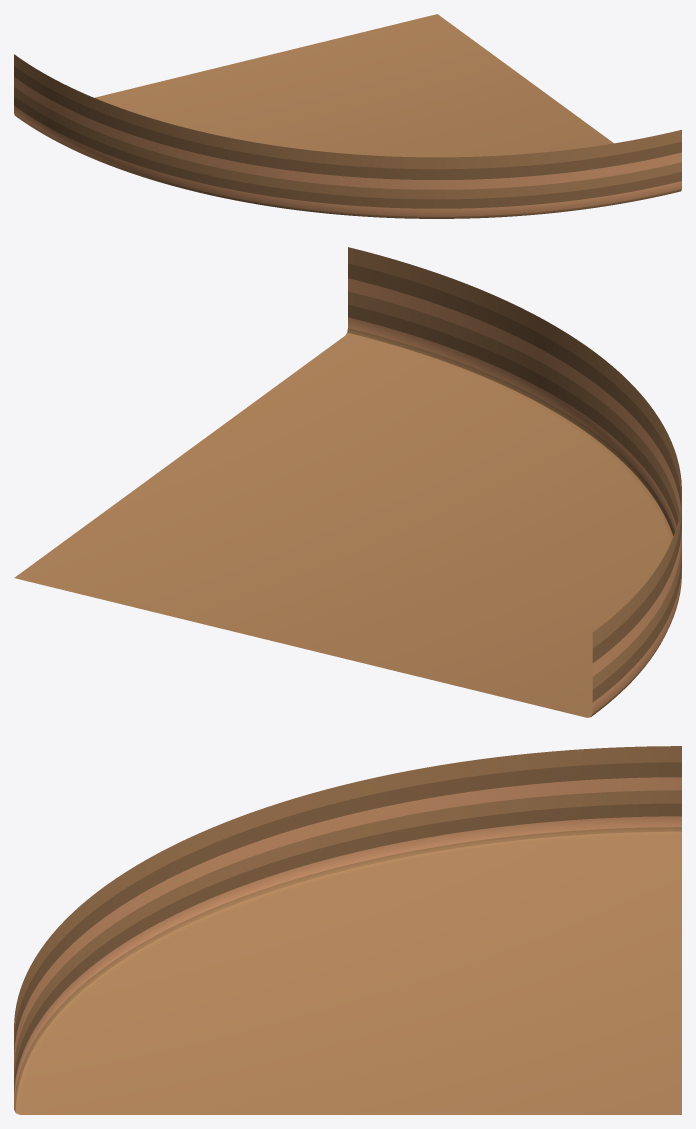
Rendered from platform_grass_corner_round7_bottom_tall.gltf.
3 views of the same model, one above another, from view 1: azimuth 30°, elevation 25°; view 2: azimuth 150°, elevation 25°; view 3: azimuth 270°, elevation 25° (orthographic). The views are drawn at different scales.
Parts seen in each view (by area): view 1: Cube_Grass_Corner_Round7Bottom_Tall; view 2: Cube_Grass_Corner_Round7Bottom_Tall; view 3: Cube_Grass_Corner_Round7Bottom_Tall.
Boxes of the visible parts, x1,y1,x2,y2 form: Cube_Grass_Corner_Round7Bottom_Tall: (14, 14, 681, 218); Cube_Grass_Corner_Round7Bottom_Tall: (14, 247, 681, 717); Cube_Grass_Corner_Round7Bottom_Tall: (14, 746, 681, 1114).
Size of the model in its own units: 14 by 2 by 14.
